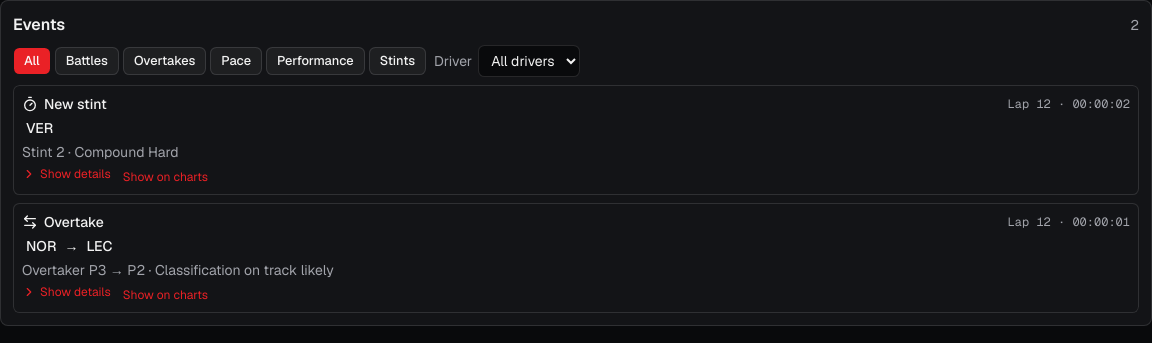
Test case: EventFeed › filters by category and driver, combines, resets, and explains empty results
Click the button "Stints" at (397, 61), box [369,47,426,75]
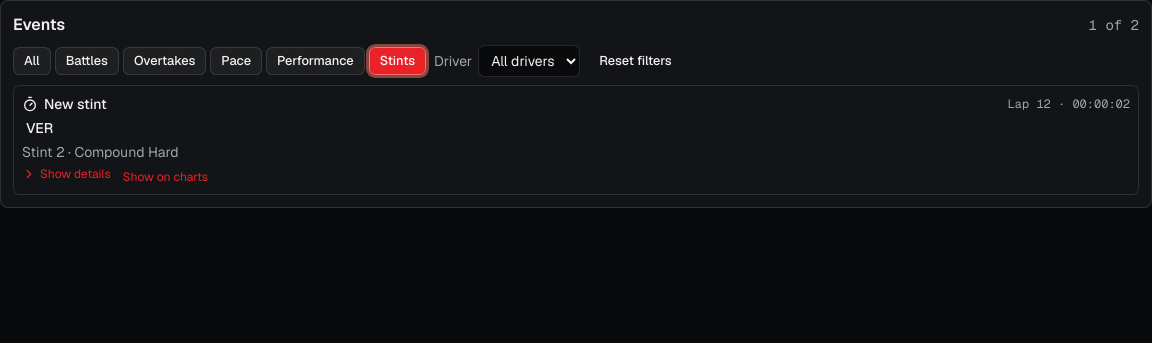
Now the number of list items is 1, box [13,85,1139,195]
Click the button "All" at (32, 61), box [13,47,51,75]
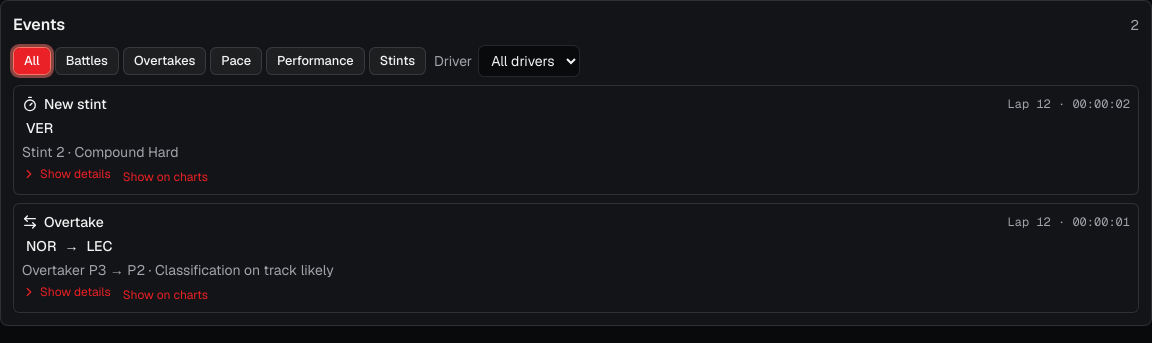
Select "LEC" in the dropdown labelled "Driver" at (529, 61), box [478,45,580,77]
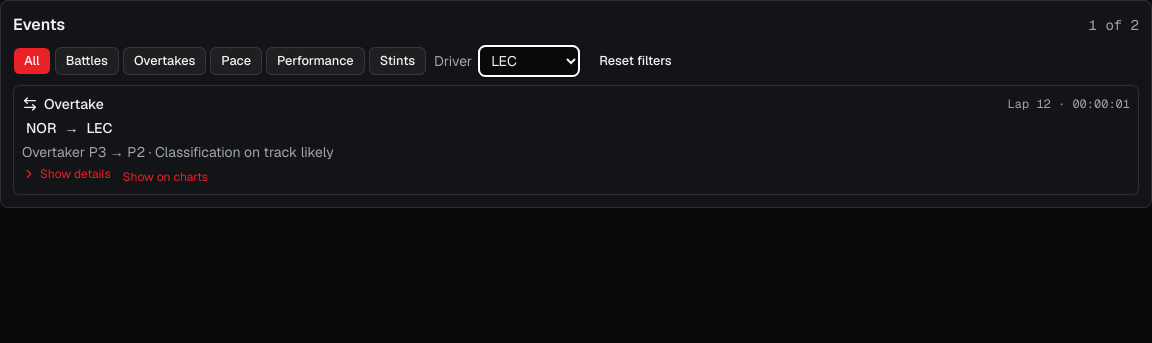
Now the number of list items is 1, box [13,85,1139,195]
Now the text "1 of 2" is shown, box [1089,15,1139,35]
Click the button "Stints" at (397, 61), box [369,47,426,75]
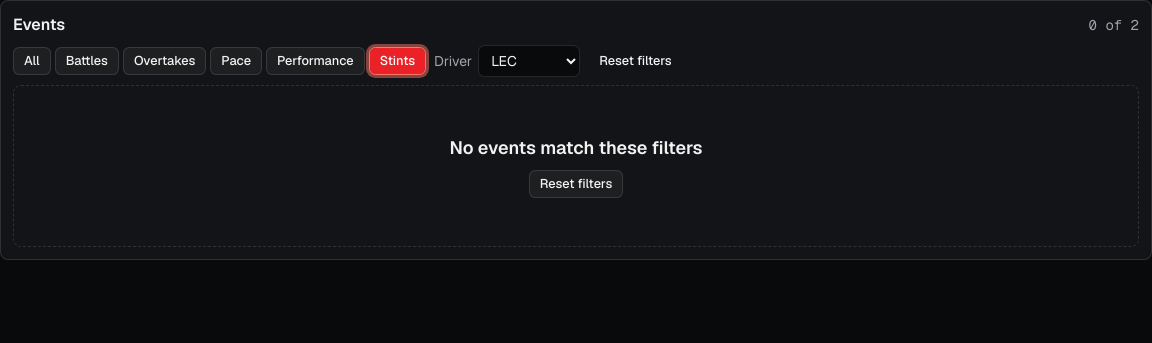
Now the heading "No events match these filters" is shown, box [450,134,702,162]
Click the button "Reset filters" below "No events match these filters" at (576, 184), box [529,170,623,198]
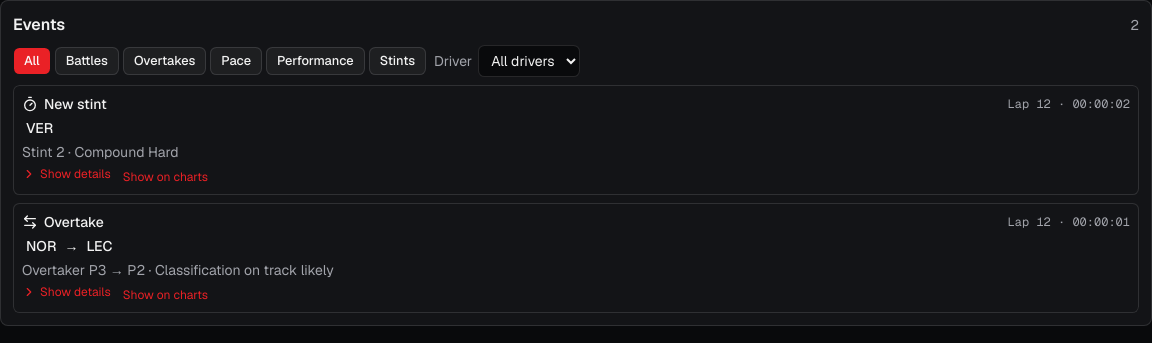
Now the number of list items is 2, box [13,85,1139,195]; [13,203,1139,313]
